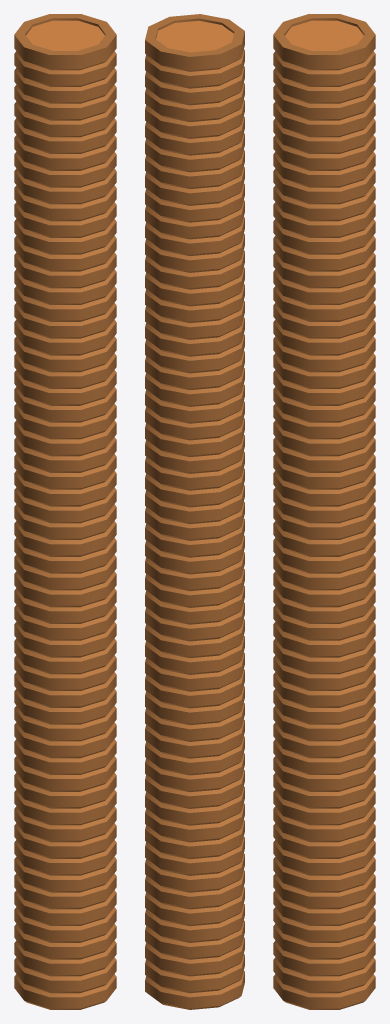
Rendered from Coin_Tower_16.fbx.
The picture shows the model from 3 angles, left to right: view 1: azimuth 90°, elevation 25°; view 2: azimuth 210°, elevation 25°; view 3: azimuth 270°, elevation 25°; orthographic projection.
Visible parts, largest first — view 1: Coin_Tower_16; view 2: Coin_Tower_16; view 3: Coin_Tower_16.
Part boxes in pixels (<box>): Coin_Tower_16: <box>14,14,116,1009</box>; Coin_Tower_16: <box>145,14,244,1009</box>; Coin_Tower_16: <box>273,14,375,1009</box>.
Bounding box in the file's own units: 0.0413 × 0.4479 × 0.0435.
